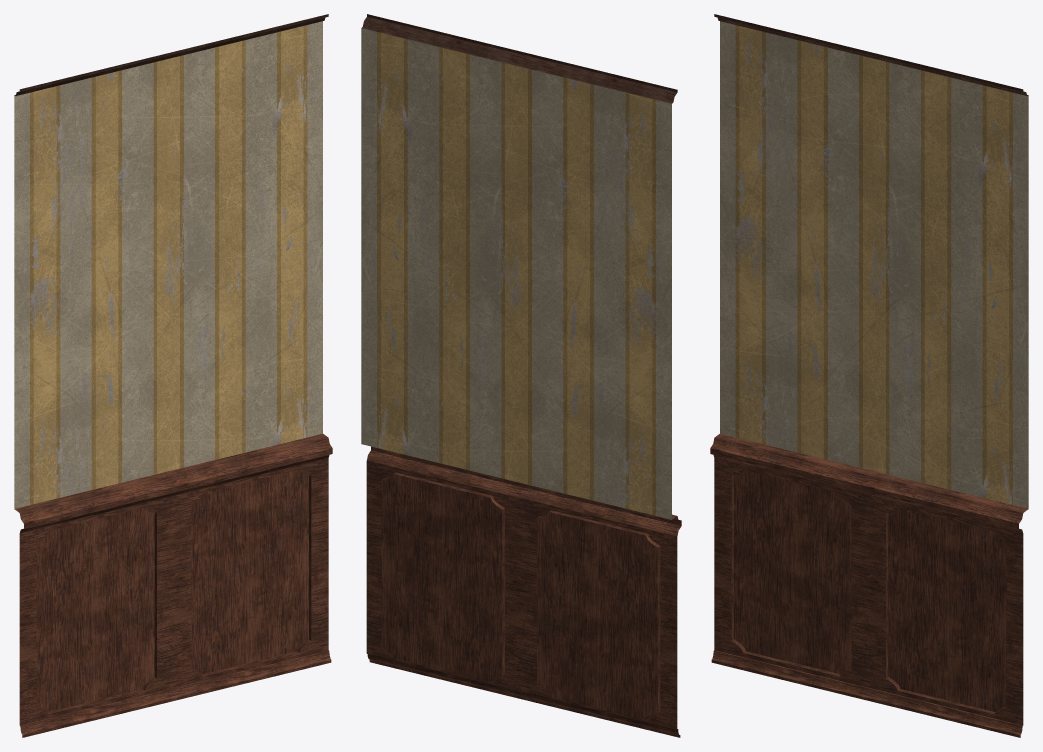
Rendered from SM_Wallpaper_Half.fbx.
3 renders of one model, left to right at view 1: azimuth 30°, elevation 25°; view 2: azimuth 150°, elevation 25°; view 3: azimuth 330°, elevation 25°, orthographic.
Parts seen in each view (by area): view 1: SM_Wallpaper_Half; view 2: SM_Wallpaper_Half; view 3: SM_Wallpaper_Half.
Part boxes in pixels (bbox=[...]): SM_Wallpaper_Half: bbox=[14, 14, 332, 737]; SM_Wallpaper_Half: bbox=[361, 14, 681, 737]; SM_Wallpaper_Half: bbox=[710, 14, 1028, 737].
Bounding box in the file's own units: 200 × 400 × 10.8.
